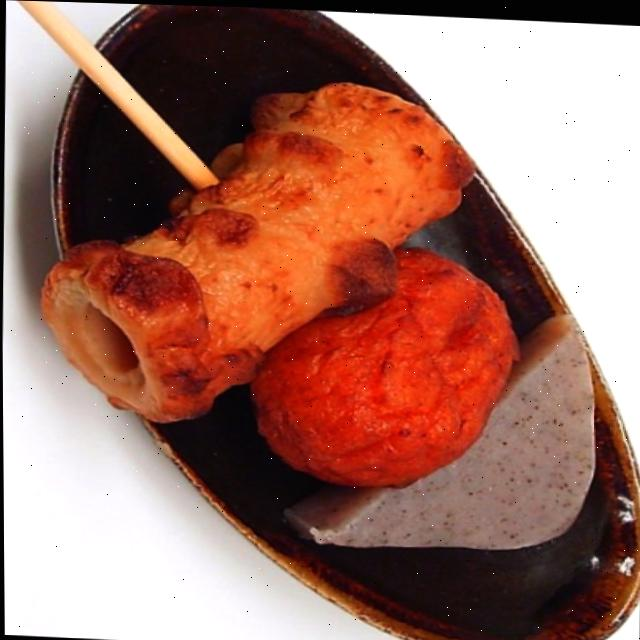汤锅炖物: (0, 0, 584, 457)
